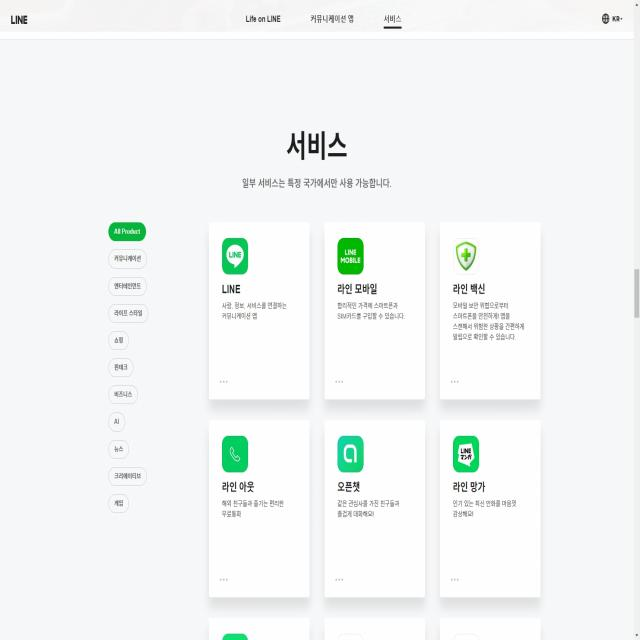menu-bar: (235, 5, 410, 36)
side-panel: (99, 208, 165, 519)
